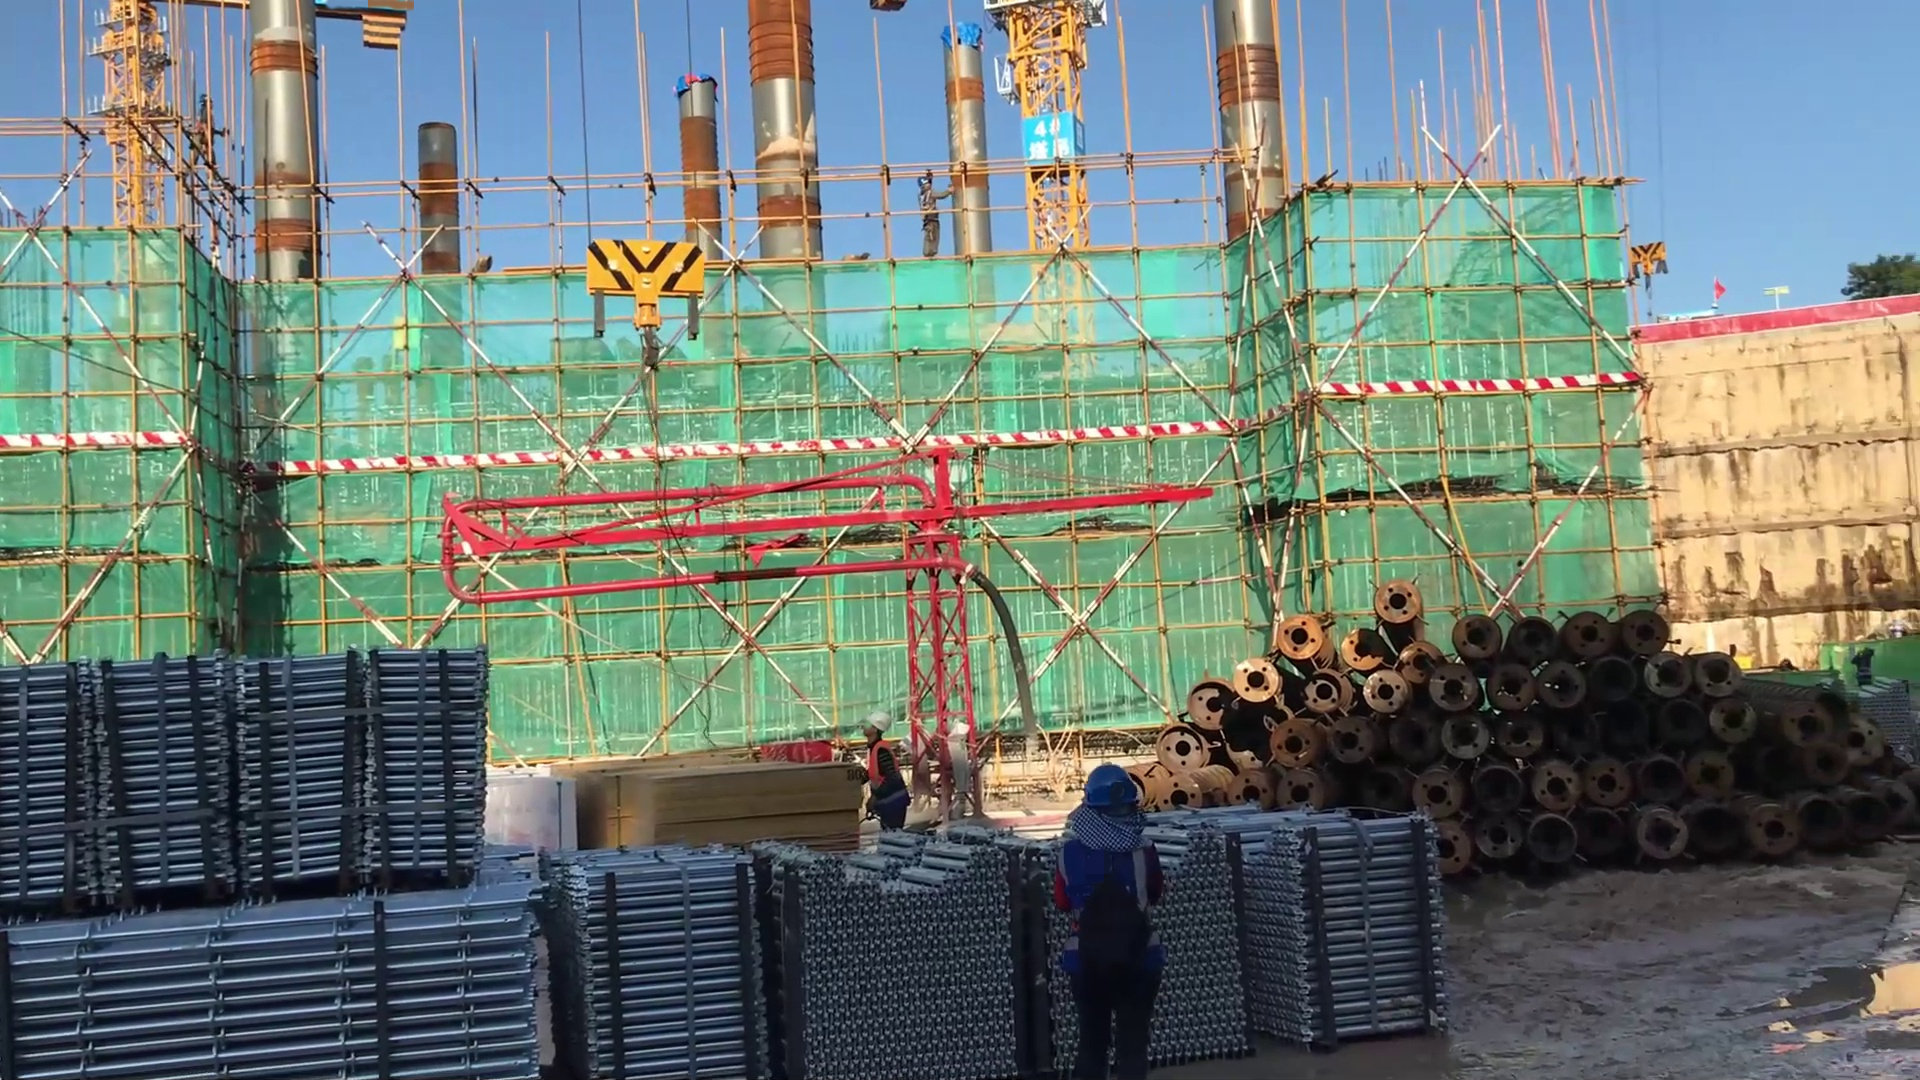board: (551, 761, 862, 870)
helmet: (1077, 766, 1145, 810), (864, 705, 898, 738), (919, 173, 938, 188)
hook: (580, 220, 726, 434), (1629, 221, 1675, 301)
person: (1051, 765, 1175, 1078), (852, 709, 914, 832), (908, 161, 947, 265)
scaffold: (1, 638, 501, 899), (1, 888, 550, 1080), (1166, 792, 1443, 1062), (769, 821, 1022, 1080), (536, 838, 772, 1080)
slogan: (1026, 110, 1088, 174)
vest: (1059, 830, 1165, 972), (866, 743, 911, 807)
